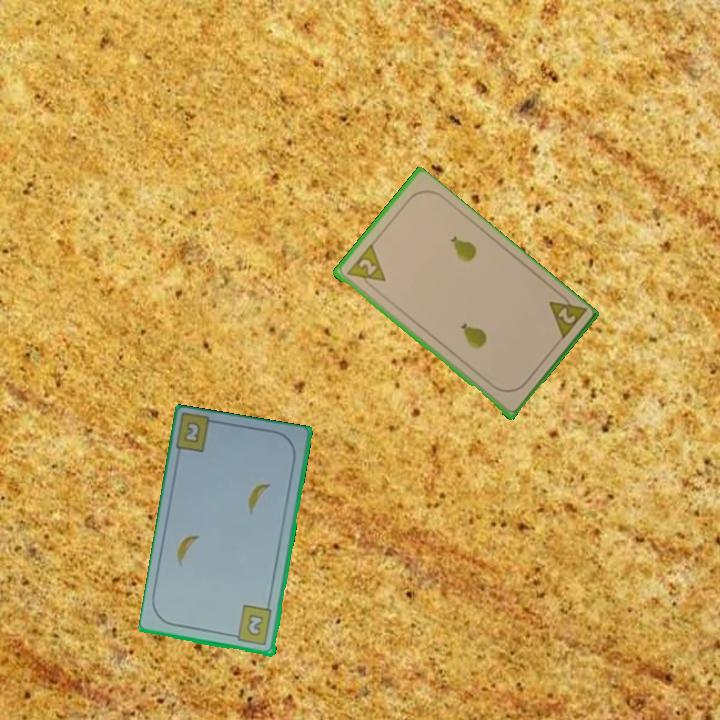2b: (228, 602, 275, 648), (173, 413, 222, 456)
2p: (545, 288, 588, 344), (343, 242, 388, 293)
